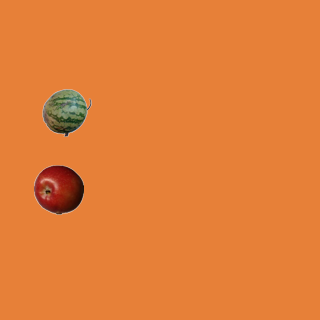Apple Braeburn: (33, 164, 83, 214)
Watermelon: (41, 87, 91, 137)
